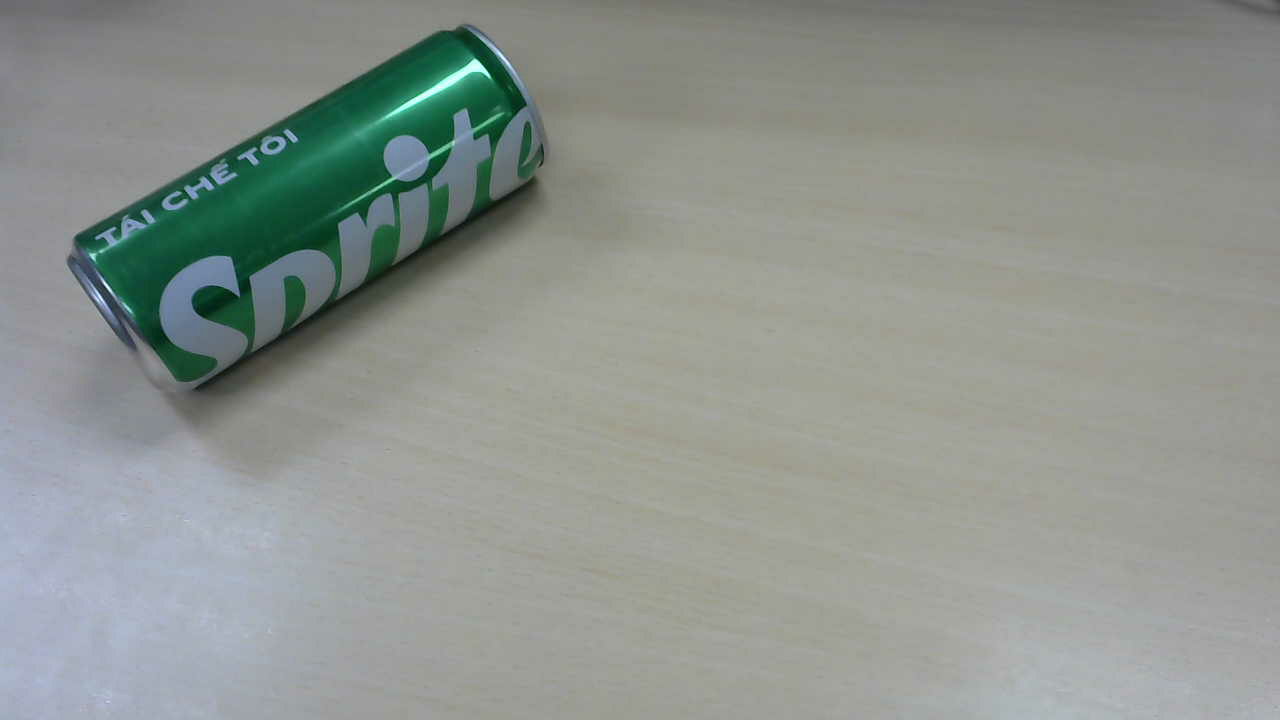Sprite: (70, 31, 552, 398)
